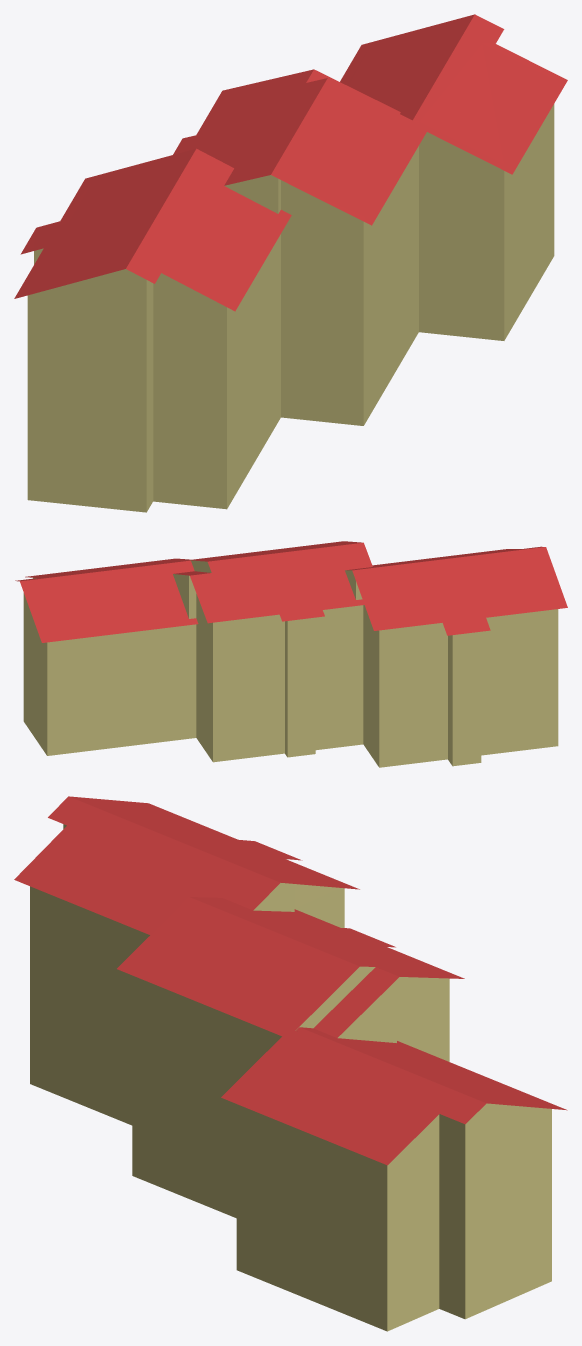
The picture shows the model from 3 angles, top to bottom: view 1: azimuth 30°, elevation 25°; view 2: azimuth 150°, elevation 25°; view 3: azimuth 270°, elevation 25°; orthographic projection. The views are drawn at different scales.
Parts seen in each view (by area): view 1: group_9, group_13, group_7, group_5, group_11, group_3, group_8, group_4; view 2: group_9, group_13, group_5, group_7, group_11, group_3, group_4, group_17, group_8; view 3: group_5, group_13, group_11, group_9, group_7, group_3, group_4, group_15, group_17, group_8.
Boxes of the visible parts, bbox=[...] form: group_9: bbox=[27, 215, 291, 512]; group_13: bbox=[224, 150, 416, 425]; group_7: bbox=[14, 148, 291, 311]; group_5: bbox=[416, 104, 554, 340]; group_11: bbox=[173, 69, 428, 225]; group_3: bbox=[340, 14, 567, 174]; group_8: bbox=[29, 182, 291, 311]; group_4: bbox=[340, 17, 565, 174]; group_9: bbox=[345, 570, 558, 767]; group_13: bbox=[190, 560, 355, 762]; group_5: bbox=[23, 577, 198, 755]; group_7: bbox=[347, 546, 567, 635]; group_11: bbox=[188, 541, 372, 623]; group_3: bbox=[15, 558, 198, 642]; group_4: bbox=[21, 558, 197, 642]; group_17: bbox=[173, 574, 196, 618]; group_8: bbox=[372, 548, 555, 634]; group_5: bbox=[236, 1103, 551, 1331]; group_13: bbox=[132, 966, 449, 1218]; group_11: bbox=[117, 897, 464, 1038]; group_9: bbox=[30, 824, 344, 1125]; group_7: bbox=[14, 796, 359, 927]; group_3: bbox=[221, 1027, 566, 1165]; group_4: bbox=[221, 1031, 565, 1163]; group_15: bbox=[313, 967, 399, 1037]; group_17: bbox=[338, 980, 396, 1042]; group_8: bbox=[14, 797, 356, 935].
Bounding box in the file's own units: 52.15 × 37.02 × 18.24.
